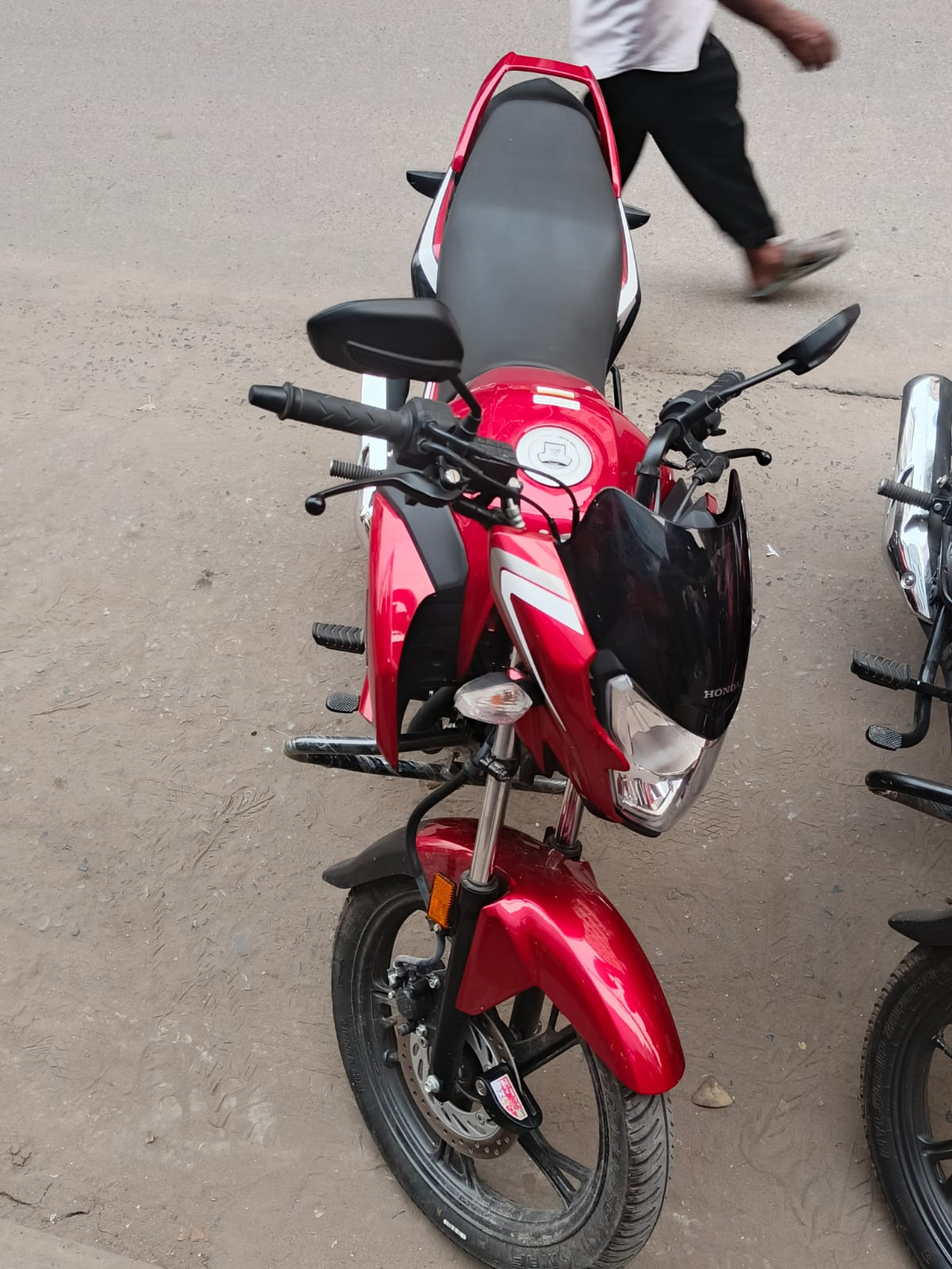Bikes: (234, 33, 854, 1269)
